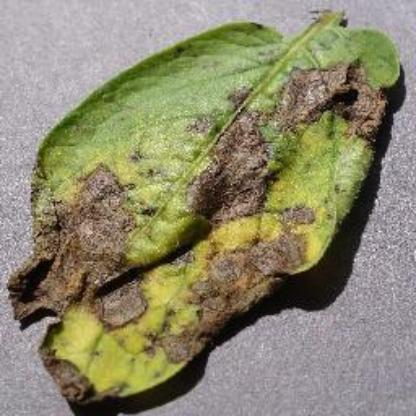Early-Blight: (10, 9, 408, 407)
